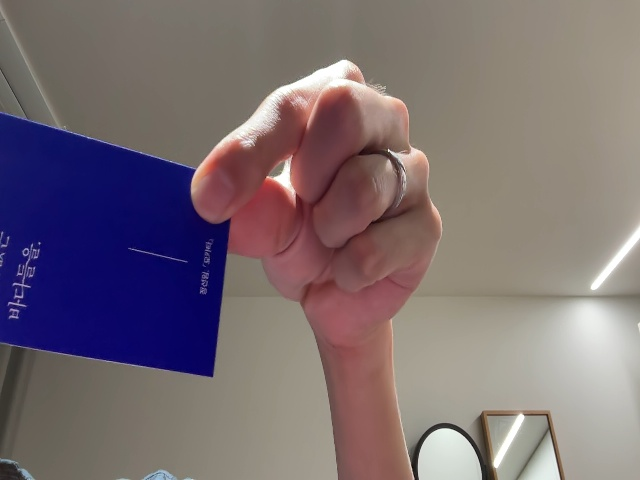card: (1, 114, 237, 379)
